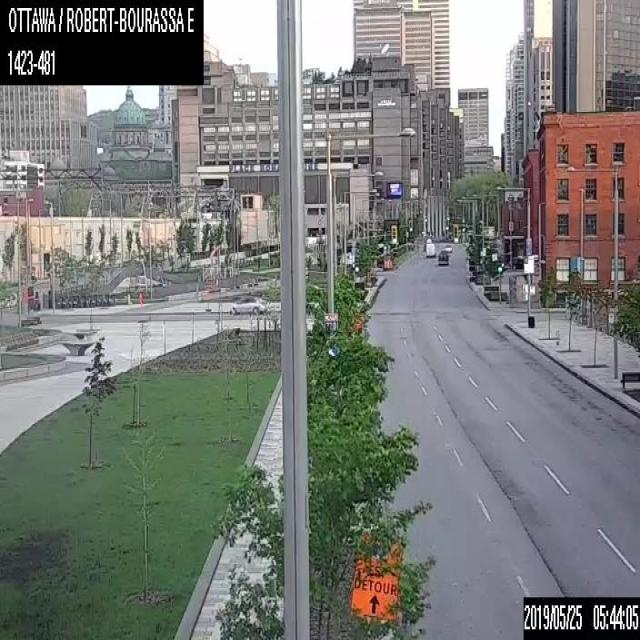construction: (350, 542, 403, 618)
vehicle: (231, 292, 265, 315), (437, 250, 448, 265), (424, 243, 436, 256), (444, 243, 452, 251)
